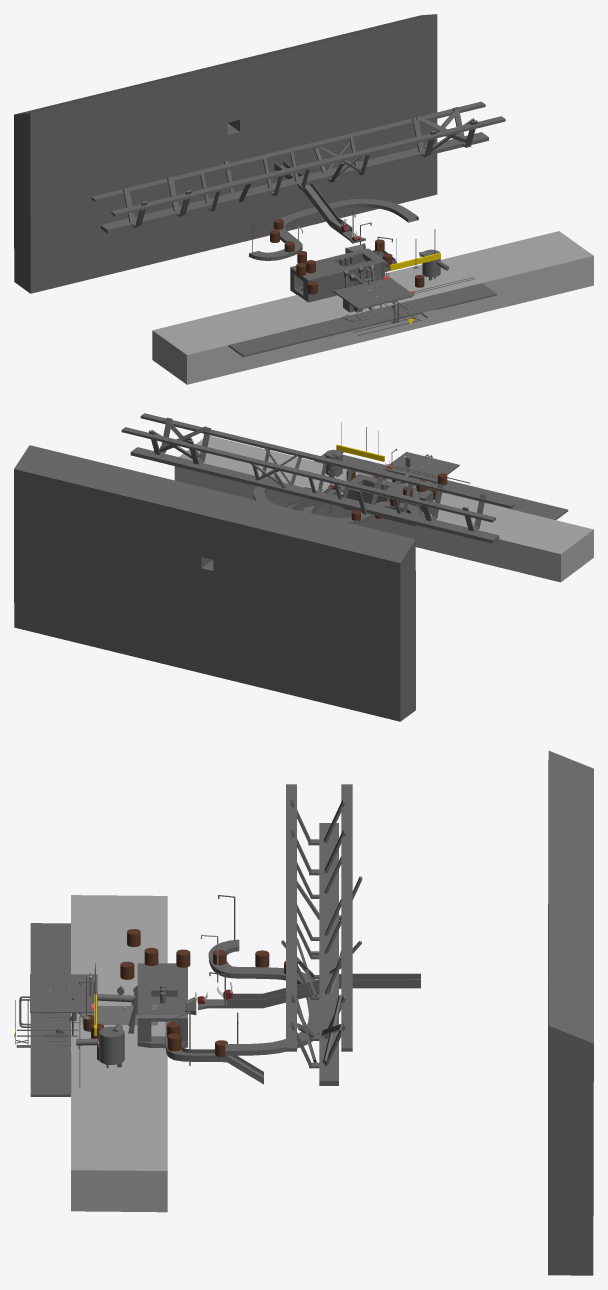
File: Oddworld updated scene.fbx
3 renders of one model, top to bottom at view 1: azimuth 30°, elevation 25°; view 2: azimuth 150°, elevation 25°; view 3: azimuth 270°, elevation 25°, orthographic. The views are drawn at different scales.
Visible parts, largest first — view 1: pCube88, pCube5, polySurface181, pCube1, polySurface177, polySurface218, polySurface240, polySurface94, pCube3, polySurface32, pCube6; view 2: pCube88, pCube5, polySurface181, polySurface240, polySurface177, pCube1, pCube3, polySurface218, polySurface94, polySurface32; view 3: pCube5, pCube88, polySurface181, pCube1, polySurface218, polySurface240, polySurface177, polySurface94, polySurface32, pCube3, pCube6, pCube31 (+2 smaller).
Part boxes in pixels (x1=…): pCube88: x1=14, y1=14, x2=437, y2=293; pCube5: x1=152, y1=231, x2=593, y2=384; polySurface181: x1=100, y1=132, x2=488, y2=233; pCube1: x1=228, y1=301, x2=423, y2=357; polySurface177: x1=111, y1=116, x2=505, y2=216; polySurface218: x1=290, y1=248, x2=387, y2=302; polySurface240: x1=91, y1=101, x2=485, y2=201; polySurface94: x1=249, y1=198, x2=418, y2=260; pCube3: x1=333, y1=277, x2=414, y2=309; polySurface32: x1=274, y1=161, x2=365, y2=243; pCube6: x1=420, y1=283, x2=496, y2=309; pCube88: x1=14, y1=445, x2=415, y2=721; pCube5: x1=174, y1=436, x2=593, y2=582; polySurface181: x1=130, y1=447, x2=499, y2=543; polySurface240: x1=121, y1=427, x2=495, y2=522; polySurface177: x1=140, y1=413, x2=514, y2=508; pCube1: x1=385, y1=472, x2=568, y2=519; pCube3: x1=383, y1=452, x2=459, y2=482; polySurface218: x1=342, y1=474, x2=433, y2=526; polySurface94: x1=253, y1=476, x2=422, y2=524; polySurface32: x1=282, y1=485, x2=345, y2=510; pCube5: x1=71, y1=895, x2=167, y2=1212; pCube88: x1=548, y1=751, x2=593, y2=1275; polySurface181: x1=319, y1=823, x2=338, y2=1085; pCube1: x1=30, y1=923, x2=71, y2=1045; polySurface218: x1=137, y1=963, x2=187, y2=1048; polySurface240: x1=341, y1=784, x2=352, y2=1051; polySurface177: x1=286, y1=784, x2=296, y2=1051; polySurface94: x1=208, y1=939, x2=319, y2=1055; polySurface32: x1=198, y1=973, x2=420, y2=1010; pCube3: x1=30, y1=974, x2=97, y2=1013; pCube6: x1=30, y1=1052, x2=71, y2=1096; pCube31: x1=165, y1=996, x2=263, y2=1084.
Bounding box in the file's own units: 143 × 58.27 × 123.
